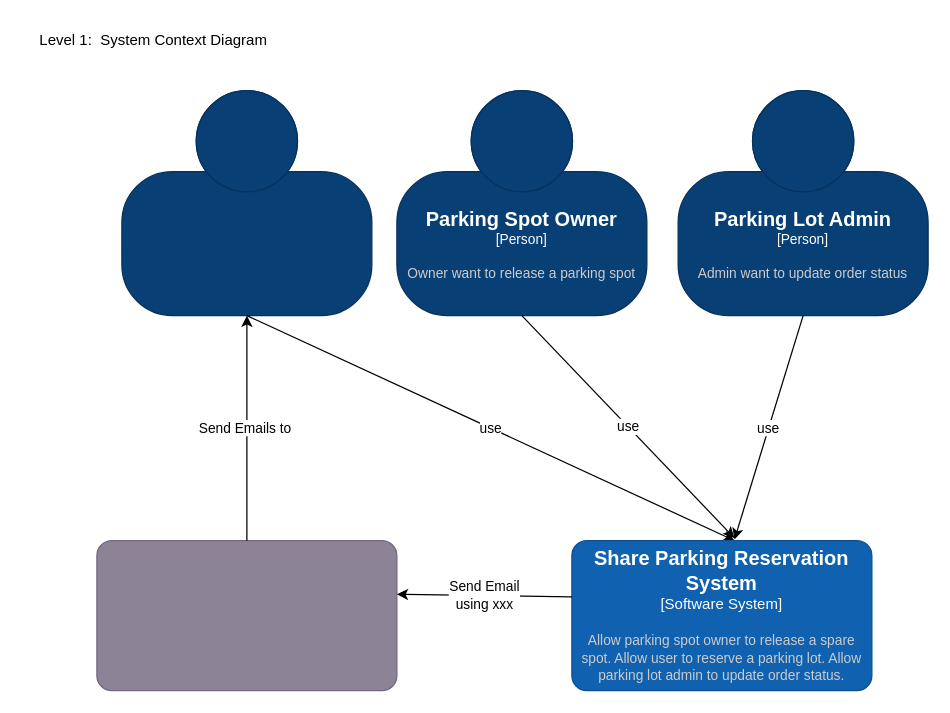
This 950x713 diagram has some shape labels left out. The shapes that lost their labels are listed below. From the top down, each one's centre as x and y in pixels, then its label:
At point (246, 202): "Parking Spot Reservation User [Person] User want to reserve a parking spot".
At point (246, 615): "Email system [Software System]".
